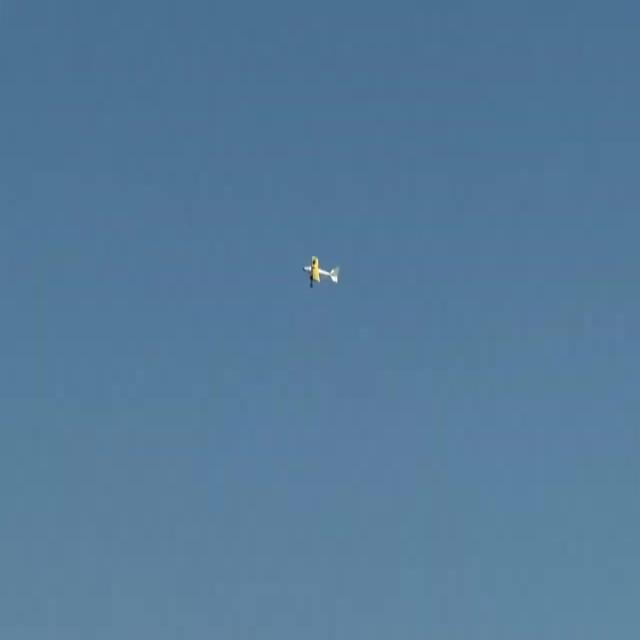iha: (302, 254, 341, 290)
